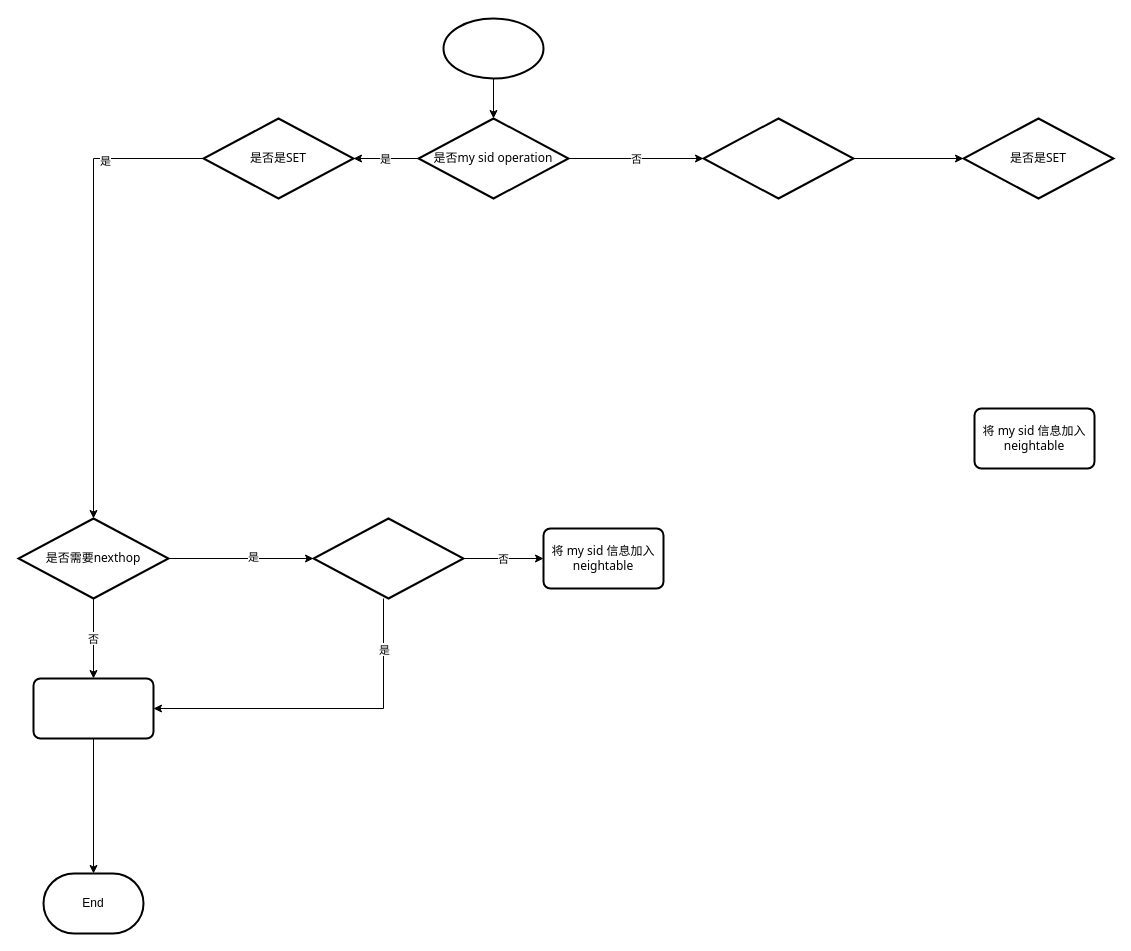
This 1131x951 diagram has some shape labels left out. The centre of each missing label's shape, as x and y in pixels:
nexthop是否存在: the point at 388,558
Start: the point at 493,48
是否 sid list operation: the point at 778,158
调用sai创建my sid: the point at 93,708
